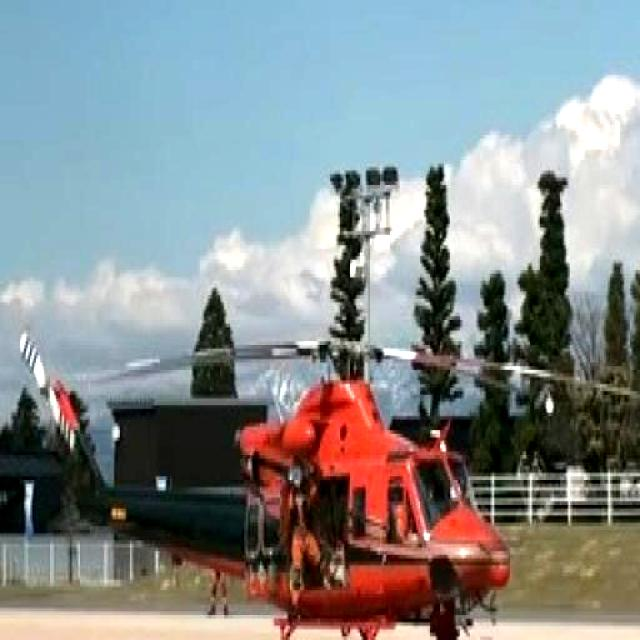drone: (4, 271, 564, 640)
